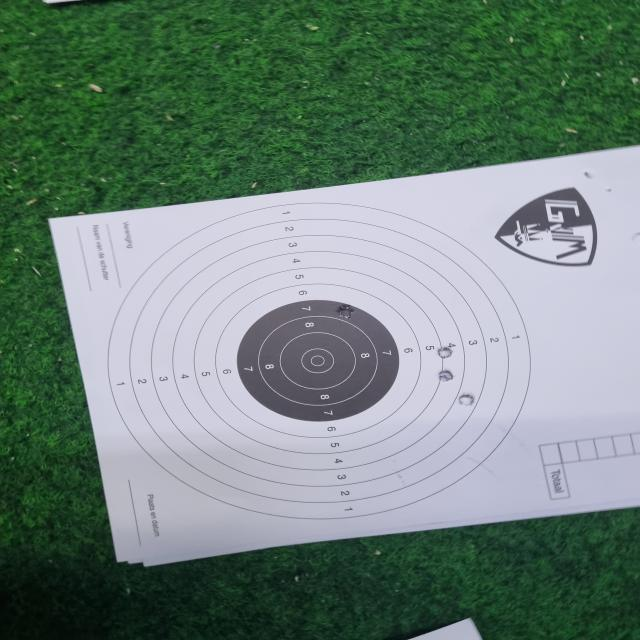3: (458, 394, 475, 406)
5: (438, 370, 453, 382), (438, 347, 453, 359)
7: (337, 305, 354, 318)
Target: (107, 202, 532, 522)
black_contour: (237, 299, 400, 422)
